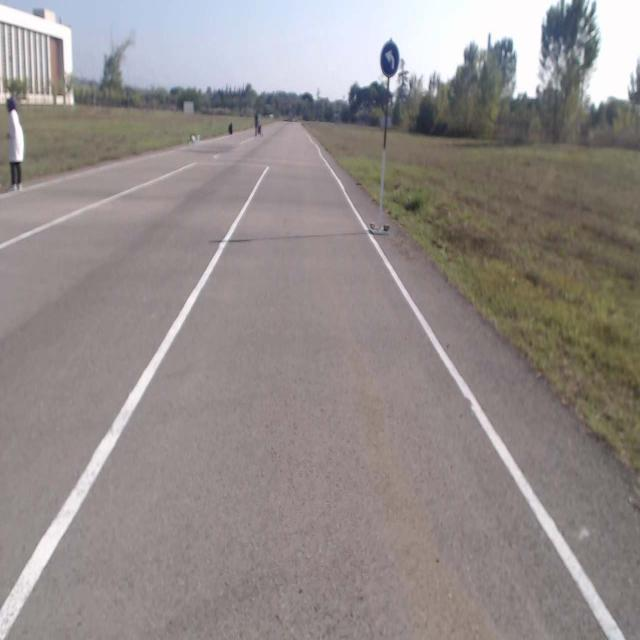sol: (379, 39, 398, 77)
